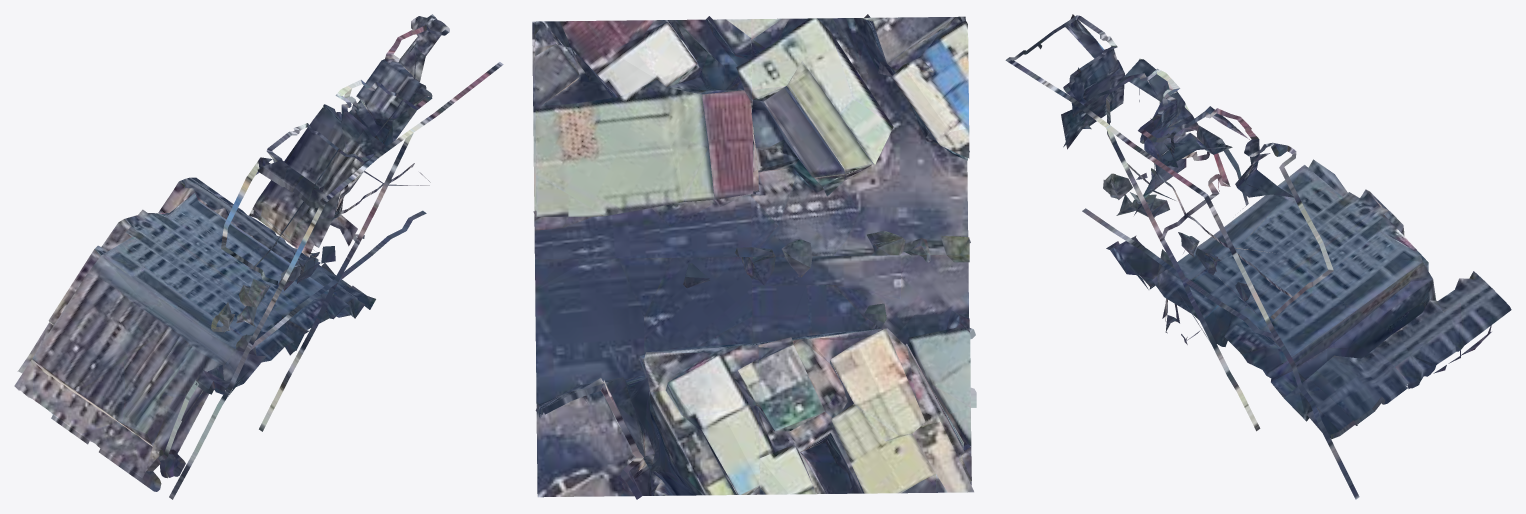
The picture shows the model from 3 angles, left to right: view 1: azimuth 30°, elevation 25°; view 2: azimuth 150°, elevation 25°; view 3: azimuth 270°, elevation 25°; orthographic projection. The views are drawn at different scales.
Bounding box in the file's own units: 93.68 × 76.26 × 92.36.
Materials: 1 (1 with a texture image).
